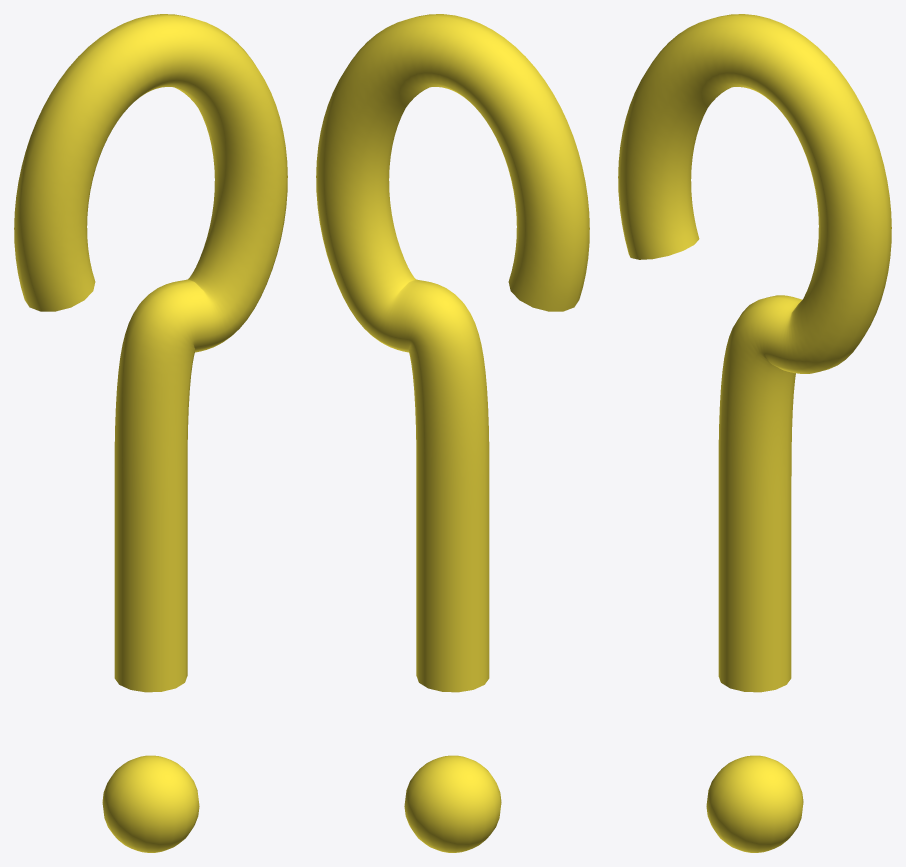
The model's file is question_mark.glb.
The picture shows the model from 3 angles, left to right: view 1: azimuth 30°, elevation 25°; view 2: azimuth 150°, elevation 25°; view 3: azimuth 330°, elevation 25°; orthographic projection.
Parts seen in each view (by area): view 1: QuestionMark; view 2: QuestionMark; view 3: QuestionMark.
Part boxes in pixels (left/top/right/bottom): QuestionMark: left=14, top=14, right=287, bottom=852; QuestionMark: left=316, top=14, right=589, bottom=852; QuestionMark: left=618, top=14, right=891, bottom=852.
Size of the model in its own units: 0.9999 by 3 by 0.32.
